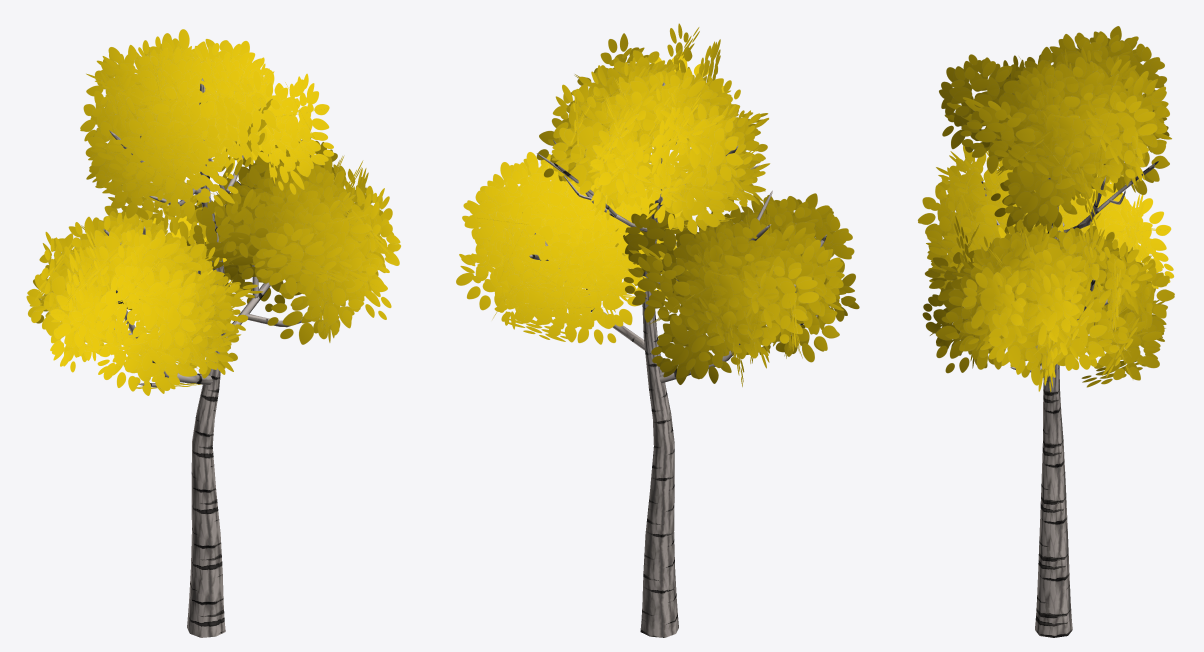
File: BirchTree_4.glb
3 renders of one model, left to right at view 1: azimuth 30°, elevation 25°; view 2: azimuth 150°, elevation 25°; view 3: azimuth 270°, elevation 25°, orthographic.
Visible parts, largest first — view 1: BirchTree_4; view 2: BirchTree_4; view 3: BirchTree_4.
Boxes of the visible parts, x1=… form: BirchTree_4: x1=26, y1=29, x2=400, y2=637; BirchTree_4: x1=456, y1=23, x2=859, y2=637; BirchTree_4: x1=917, y1=26, x2=1174, y2=637.
Size of the model in its own units: 2.78 by 4.21 by 1.84.
2 materials, 2 textured.
